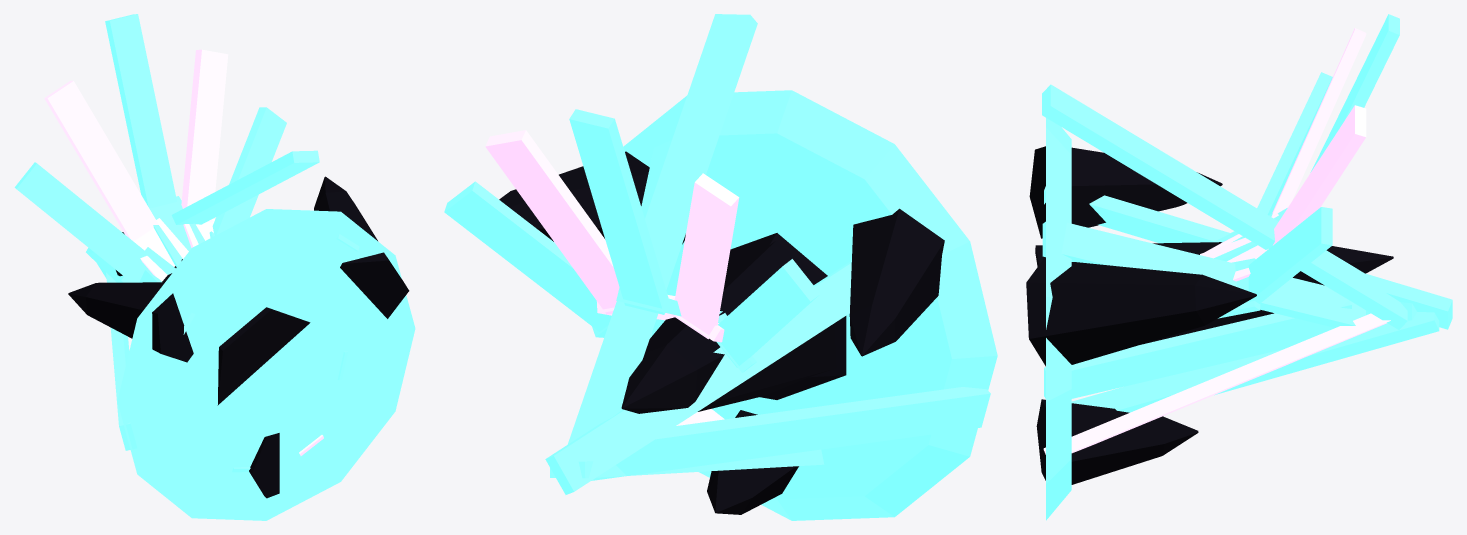
The model's file is CyberNeonFoliage.fbx.
The picture shows the model from 3 angles, left to right: view 1: azimuth 30°, elevation 25°; view 2: azimuth 150°, elevation 25°; view 3: azimuth 270°, elevation 25°; orthographic projection. The views are drawn at different scales.
Visible parts, largest first — view 1: CNF_variant crystal sprout cyan ring, CNF_variant fan fern cyan fronds, CNF_variant crystal sprout bodies, CNF_variant fan fern magenta fronds, CNF_variant glow tuft cyan blades; view 2: CNF_variant crystal sprout cyan ring, CNF_variant glow tuft cyan blades, CNF_variant crystal sprout bodies, CNF_variant fan fern cyan fronds, CNF_variant fan fern magenta fronds, CNF_variant glow tuft base; view 3: CNF_variant glow tuft cyan blades, CNF_variant crystal sprout bodies, CNF_variant fan fern cyan fronds, CNF_variant crystal sprout cyan ring, CNF_variant fan fern magenta fronds, CNF_variant glow tuft magenta blades.
Part boxes in pixels (x1,y1,x2,y2): CNF_variant crystal sprout cyan ring: [117, 209, 415, 520]; CNF_variant fan fern cyan fronds: [14, 14, 286, 282]; CNF_variant crystal sprout bodies: [68, 176, 409, 498]; CNF_variant fan fern magenta fronds: [44, 49, 228, 281]; CNF_variant glow tuft cyan blades: [86, 150, 359, 472]; CNF_variant crystal sprout cyan ring: [623, 90, 997, 520]; CNF_variant glow tuft cyan blades: [545, 14, 990, 494]; CNF_variant crystal sprout bodies: [499, 151, 944, 514]; CNF_variant fan fern cyan fronds: [444, 109, 819, 372]; CNF_variant fan fern magenta fronds: [485, 130, 739, 342]; CNF_variant glow tuft base: [729, 233, 846, 399]; CNF_variant glow tuft cyan blades: [1042, 84, 1452, 412]; CNF_variant crystal sprout bodies: [1026, 146, 1393, 484]; CNF_variant fan fern cyan fronds: [1213, 14, 1399, 318]; CNF_variant crystal sprout cyan ring: [1046, 118, 1071, 520]; CNF_variant fan fern magenta fronds: [1200, 28, 1366, 281]; CNF_variant glow tuft magenta blades: [1043, 313, 1390, 454].
Bounding box in the file's own units: 40.35 × 51.17 × 41.21.
